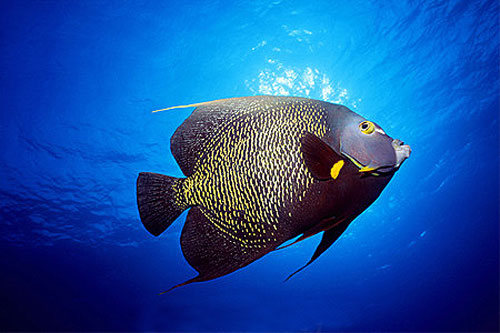Pomacanthus_paru: (133, 90, 418, 288)
